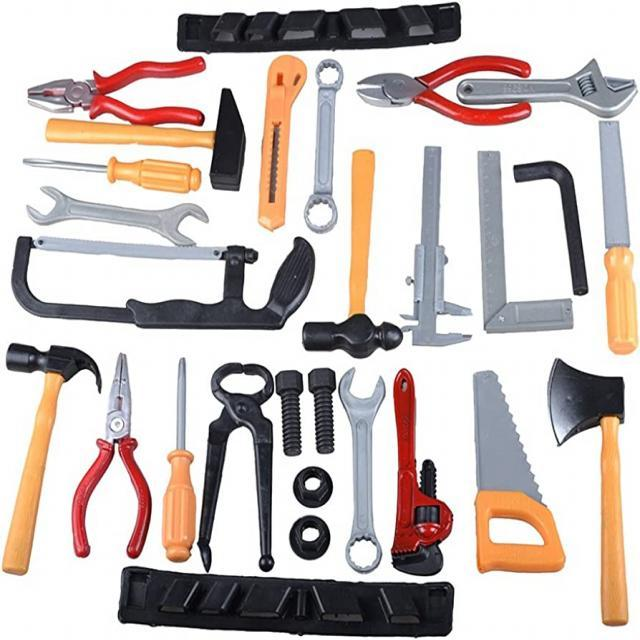hammer: (0, 337, 103, 587), (300, 146, 405, 362), (41, 85, 248, 194)
screwdriver: (156, 354, 202, 564), (22, 154, 204, 198)
